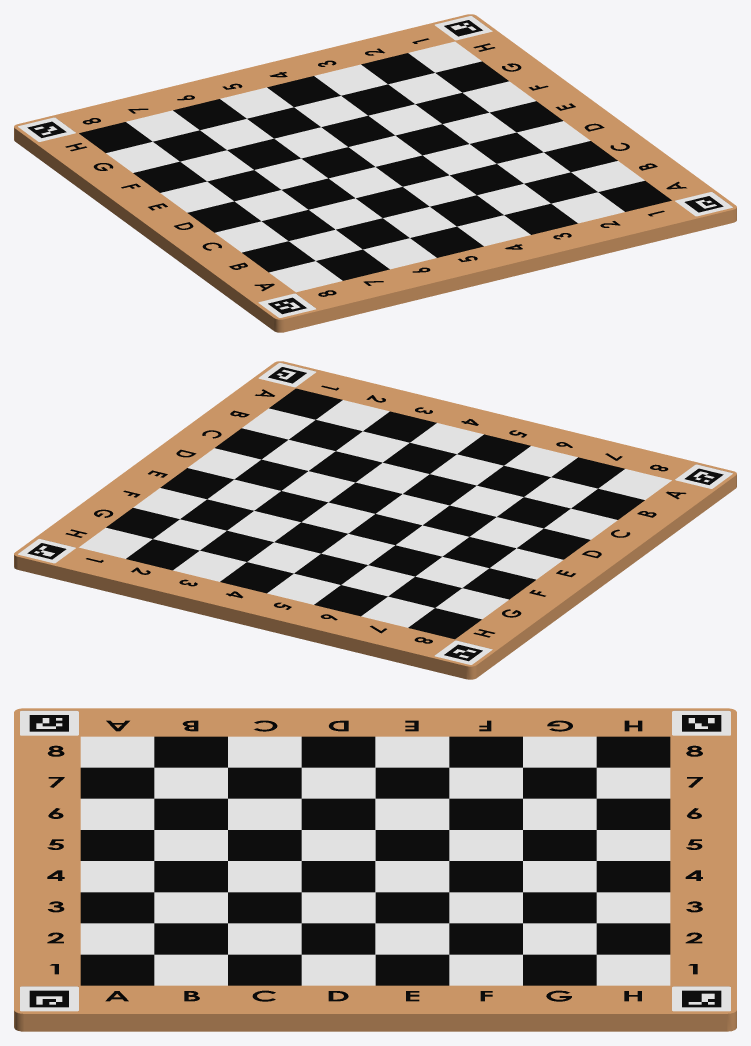
Rendered from chessboard.dae.
The picture shows the model from 3 angles, top to bottom: view 1: azimuth 30°, elevation 25°; view 2: azimuth 150°, elevation 25°; view 3: azimuth 270°, elevation 25°; orthographic projection. The views are drawn at different scales.
Visible parts, largest first — view 1: Split5[5]_321, Split5[5]_318, Split5[5]_319, Boss-Extrude4[9]_82, Boss-Extrude4[11]_86, Boss-Extrude4[23]_110, Boss-Extrude4[28]_120, Boss-Extrude3[6]_12, Boss-Extrude3[10]_20, Boss-Extrude3[15]_30, Boss-Extrude3[24]_48, Boss-Extrude3[27]_54 (+55 smaller); view 2: Split5[5]_321, Split5[5]_318, Split5[5]_319, Boss-Extrude3[23]_46, Boss-Extrude3[25]_50, Boss-Extrude4[12]_88, Boss-Extrude4[19]_102, Boss-Extrude3[4]_8, Boss-Extrude3[8]_16, Boss-Extrude3[13]_26, Boss-Extrude3[16]_32, Boss-Extrude3[20]_40 (+55 smaller); view 3: Split5[5]_321, Split5[5]_318, Split5[5]_319, Boss-Extrude3[15]_30, Boss-Extrude3[23]_46, Boss-Extrude4[17]_98, Boss-Extrude4[30]_124, Boss-Extrude3[3]_6, Boss-Extrude3[7]_14, Boss-Extrude3[11]_22, Boss-Extrude3[20]_40, Boss-Extrude3[22]_44 (+55 smaller).
Part boxes in pixels (x1,y1,x2,y2): Split5[5]_321: (14, 14, 736, 332); Split5[5]_318: (65, 38, 686, 296); Split5[5]_319: (18, 16, 732, 317); Boss-Extrude4[9]_82: (336, 218, 409, 249); Boss-Extrude4[11]_86: (430, 195, 503, 226); Boss-Extrude4[23]_110: (301, 147, 374, 178); Boss-Extrude4[28]_120: (341, 84, 414, 115); Boss-Extrude3[6]_12: (180, 150, 253, 181); Boss-Extrude3[10]_20: (309, 198, 382, 229); Boss-Extrude3[15]_30: (551, 192, 624, 223); Boss-Extrude3[24]_48: (462, 81, 535, 112); Boss-Extrude3[27]_54: (314, 64, 387, 95); Split5[5]_321: (14, 361, 736, 679); Split5[5]_318: (65, 385, 686, 643); Split5[5]_319: (18, 363, 732, 664); Boss-Extrude3[23]_46: (207, 479, 280, 510); Boss-Extrude3[25]_50: (153, 519, 226, 550); Boss-Extrude4[12]_88: (363, 411, 436, 442); Boss-Extrude4[19]_102: (328, 482, 401, 513); Boss-Extrude3[4]_8: (435, 588, 508, 619); Boss-Extrude3[8]_16: (524, 477, 597, 508); Boss-Extrude3[13]_26: (430, 454, 503, 485); Boss-Extrude3[16]_32: (242, 408, 315, 439); Boss-Extrude3[20]_40: (282, 471, 355, 502); Split5[5]_321: (14, 708, 736, 1031); Split5[5]_318: (47, 720, 702, 1001); Split5[5]_319: (20, 710, 730, 1011); Boss-Extrude3[15]_30: (80, 923, 154, 954); Boss-Extrude3[23]_46: (375, 923, 449, 954); Boss-Extrude4[17]_98: (301, 923, 375, 954); Boss-Extrude4[30]_124: (596, 923, 670, 954); Boss-Extrude3[3]_6: (375, 736, 449, 767); Boss-Extrude3[7]_14: (301, 767, 375, 798); Boss-Extrude3[11]_22: (375, 798, 449, 829); Boss-Extrude3[20]_40: (301, 892, 375, 923); Boss-Extrude3[22]_44: (301, 954, 375, 985).
Size of the model in its own units: 0.368 by 0.368 by 0.01.
